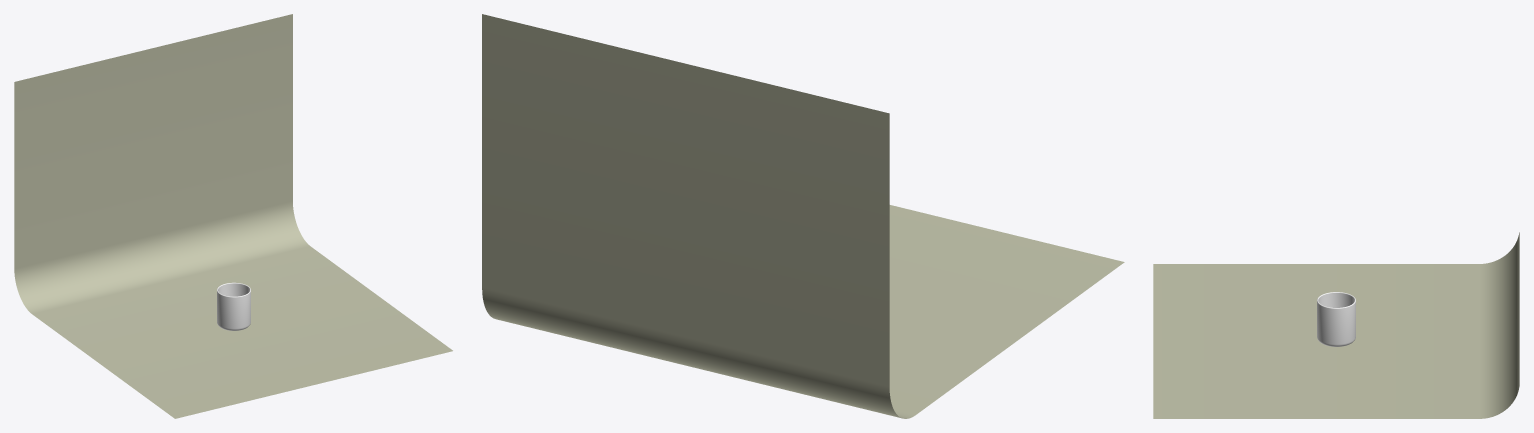
The model's file is uploads_files_5662273_18th+task.glb.
The picture shows the model from 3 angles, left to right: view 1: azimuth 30°, elevation 25°; view 2: azimuth 150°, elevation 25°; view 3: azimuth 270°, elevation 25°; orthographic projection. The views are drawn at different scales.
Parts seen in each view (by area): view 1: Plane, Cylinder; view 2: Plane; view 3: Plane, Cylinder.
Boxes of the visible parts, bbox=[...] form: Plane: bbox=[14, 14, 452, 418]; Cylinder: bbox=[217, 282, 250, 330]; Plane: bbox=[482, 14, 1124, 418]; Plane: bbox=[1153, 232, 1519, 418]; Cylinder: bbox=[1317, 292, 1355, 346].
Size of the model in its own units: 18.75 by 14.11 by 18.75.
